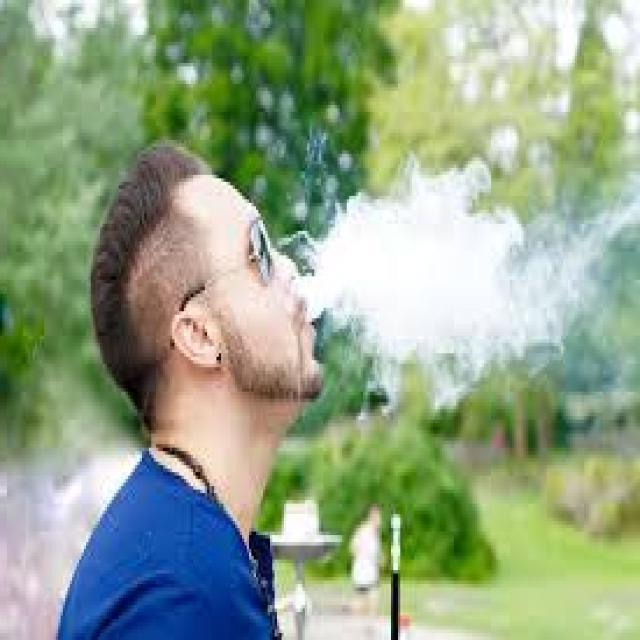Smoke: (277, 0, 640, 405), (0, 0, 165, 640), (530, 388, 640, 550)
